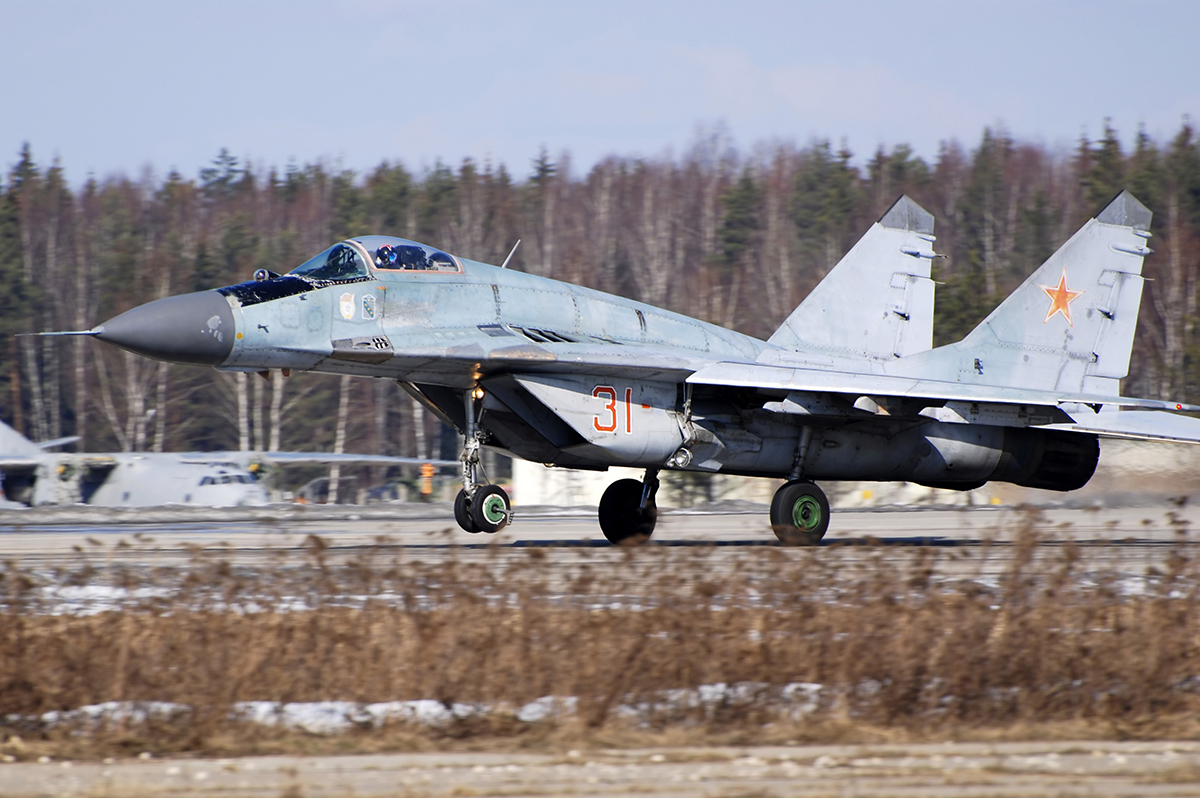Mig-29: (53, 109, 1166, 646)
